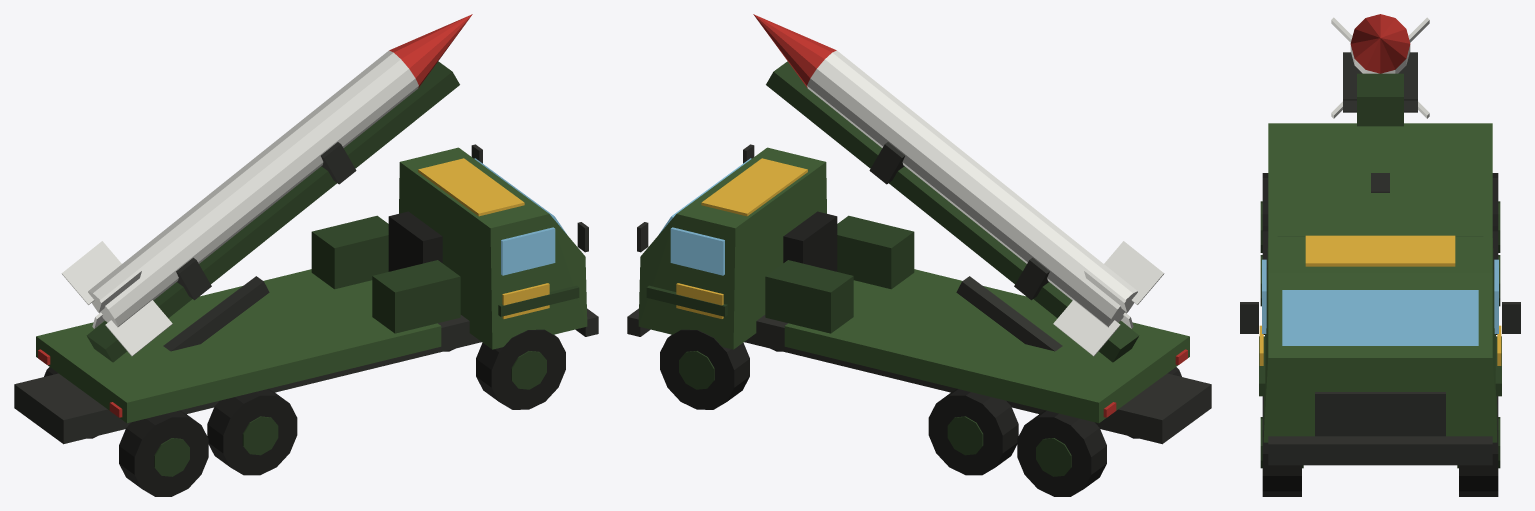
File: missile_truck.glb
3 renders of one model, left to right at view 1: azimuth 30°, elevation 25°; view 2: azimuth 150°, elevation 25°; view 3: azimuth 270°, elevation 25°, orthographic. The views are drawn at different scales.
Visible parts, largest first — view 1: Hull, Launcher, TeamColor; view 2: Hull, Launcher, TeamColor; view 3: Hull, Launcher, TeamColor.
Part boxes in pixels (left/top/right/bottom): Hull: left=14, top=144, right=598, bottom=496; Launcher: left=61, top=14, right=472, bottom=362; TeamColor: left=418, top=158, right=549, bottom=318; Hull: left=627, top=144, right=1211, bottom=496; Launcher: left=753, top=14, right=1164, bottom=362; TeamColor: left=676, top=158, right=807, bottom=318; Hull: left=1240, top=123, right=1520, bottom=496; Launcher: left=1331, top=14, right=1429, bottom=126; TeamColor: left=1259, top=235, right=1501, bottom=365.
Bounding box in the file's own units: 7.85 × 5.29 × 3.
